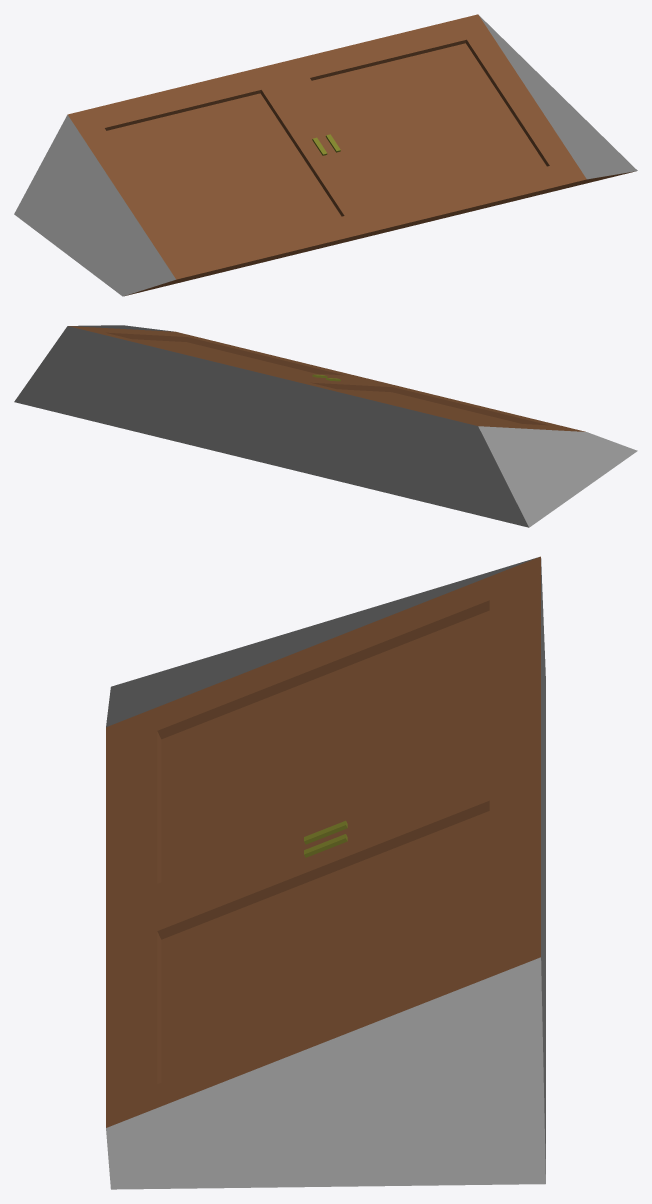
The model's file is Porao.fbx.
3 renders of one model, top to bottom at view 1: azimuth 30°, elevation 25°; view 2: azimuth 150°, elevation 25°; view 3: azimuth 270°, elevation 25°, orthographic. The views are drawn at different scales.
Visible parts, largest first — view 1: Cube.002, Cube.001; view 2: Cube.002, Cube.001; view 3: Cube.001, Cube.002.
Part boxes in pixels (left/top/right/bottom): Cube.002: left=14, top=64, right=381, bottom=296; Cube.001: left=273, top=14, right=637, bottom=233; Cube.002: left=271, top=376, right=637, bottom=527; Cube.001: left=14, top=325, right=380, bottom=464; Cube.001: left=106, top=757, right=545, bottom=1189; Cube.002: left=106, top=556, right=545, bottom=927.
Size of the model in its own units: 264 by 44.38 by 97.62.
